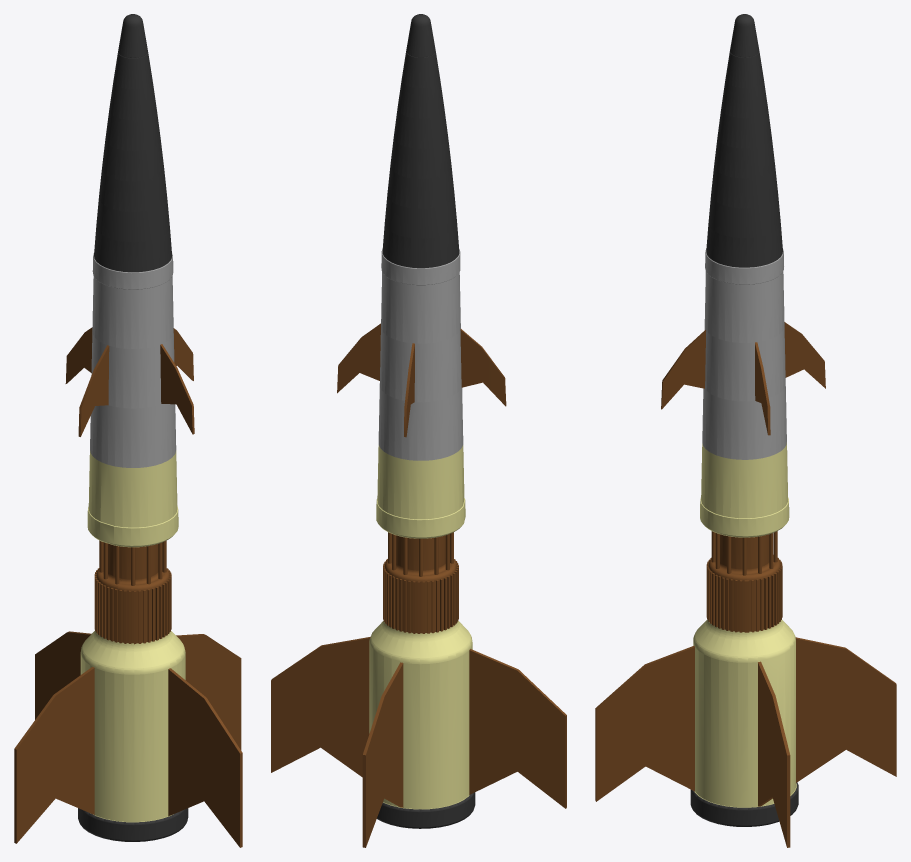
Rendered from rocket.fbx.
The picture shows the model from 3 angles, left to right: view 1: azimuth 30°, elevation 25°; view 2: azimuth 150°, elevation 25°; view 3: azimuth 270°, elevation 25°; orthographic projection.
Visible parts, largest first — view 1: polySurface32, polySurface28, polySurface16, polySurface17, polySurface24, polySurface30, polySurface26, polySurface34, polySurface14, polySurface15, polySurface19, polySurface22 (+2 smaller); view 2: polySurface32, polySurface28, polySurface16, polySurface14, polySurface24, polySurface30, polySurface26, polySurface34, polySurface15, polySurface22, polySurface20, polySurface21; view 3: polySurface32, polySurface28, polySurface15, polySurface17, polySurface24, polySurface30, polySurface26, polySurface34, polySurface14, polySurface19, polySurface21, polySurface20.
Boxes of the visible parts, x1=… form: polySurface32: x1=78, y1=631, x2=188, y2=841; polySurface28: x1=90, y1=252, x2=176, y2=467; polySurface16: x1=14, y1=667, x2=94, y2=843; polySurface17: x1=168, y1=668, x2=242, y2=847; polySurface24: x1=102, y1=14, x2=164, y2=181; polySurface30: x1=87, y1=450, x2=178, y2=547; polySurface26: x1=94, y1=169, x2=172, y2=272; polySurface34: x1=94, y1=543, x2=171, y2=644; polySurface14: x1=176, y1=634, x2=241, y2=750; polySurface15: x1=35, y1=631, x2=91, y2=719; polySurface19: x1=160, y1=344, x2=194, y2=434; polySurface22: x1=78, y1=345, x2=109, y2=436; polySurface32: x1=369, y1=621, x2=475, y2=828; polySurface28: x1=378, y1=249, x2=463, y2=460; polySurface16: x1=469, y1=649, x2=566, y2=808; polySurface14: x1=271, y1=637, x2=370, y2=777; polySurface24: x1=390, y1=14, x2=451, y2=178; polySurface30: x1=376, y1=445, x2=465, y2=538; polySurface26: x1=382, y1=165, x2=459, y2=268; polySurface34: x1=383, y1=535, x2=458, y2=633; polySurface15: x1=362, y1=662, x2=403, y2=847; polySurface22: x1=460, y1=329, x2=506, y2=406; polySurface20: x1=337, y1=323, x2=380, y2=393; polySurface21: x1=404, y1=343, x2=414, y2=437; polySurface32: x1=690, y1=620, x2=798, y2=826; polySurface28: x1=702, y1=248, x2=786, y2=459; polySurface15: x1=795, y1=637, x2=896, y2=782; polySurface17: x1=595, y1=646, x2=694, y2=801; polySurface24: x1=714, y1=14, x2=774, y2=178; polySurface30: x1=700, y1=442, x2=789, y2=537; polySurface26: x1=706, y1=165, x2=782, y2=267; polySurface34: x1=706, y1=534, x2=782, y2=632; polySurface14: x1=758, y1=661, x2=790, y2=847; polySurface19: x1=661, y1=330, x2=705, y2=409; polySurface21: x1=784, y1=322, x2=825, y2=388; polySurface20: x1=755, y1=342, x2=770, y2=435.
Size of the model in its own units: 5.78 by 16.9 by 5.84.
